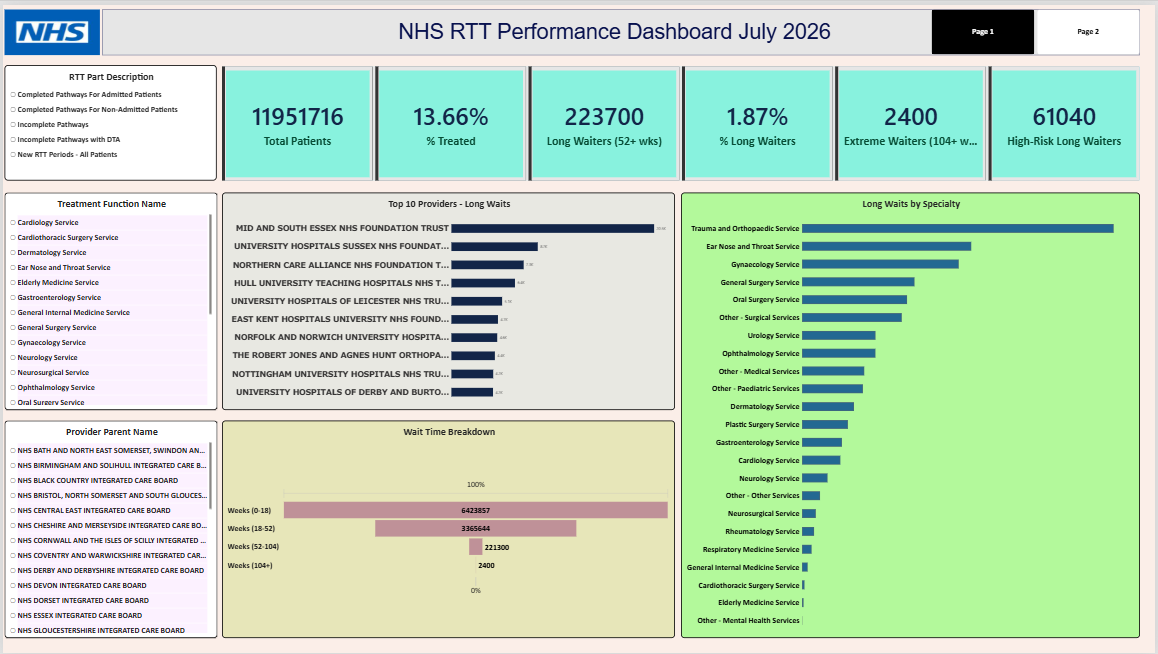

Layout of this report page (visuals, bound fields, positions):
{"tool":"powerbi","page":{"name":"Page 1","canvas":[3840,2160],"ordinal":0},"visuals":[{"type":"cardVisual","fields":{"Data":["NHS_Rtt.Total patient","NHS_Rtt.Percentage_of_Patients_Treated","NHS_Rtt.Long_Wait_volume","NHS_Rtt.Percentage_long_wait_volume","NHS_Rtt.Extreme_long_wait","NHS_Rtt.High_risk_long_wait"]},"box":[730,205,3060,380],"z":0},{"type":"shape","box":[329.3,14.3,3459.6,152.7],"z":1000},{"type":"textbox","box":[329.3,42.9,3416.6,124.1],"z":2000},{"type":"barChart","title":"Top 10 Providers - Long Waits","fields":{"Category":["NHS_Rtt.Provider Org Name"],"Y":["NHS_Rtt.Long_Wait_volume"]},"box":[730,625,1510,725],"z":3000},{"type":"funnel","title":"Wait Time Breakdown","fields":{"Y":["NHS_Rtt.Weeks (0-18)","NHS_Rtt.Weeks (18-52)","NHS_Rtt.Weeks (52-104)","NHS_Rtt.Weeks (104+)"]},"box":[730,1385,1510,725],"z":4000},{"type":"clusteredBarChart","title":"Long Waits by Specialty","fields":{"Category":["NHS_Rtt.Treatment Function Name"],"Y":["NHS_Rtt.Long_Wait_volume"]},"box":[2260,625,1530,1485],"z":5000},{"type":"listSlicer","fields":{"Values":["NHS_Rtt.RTT Part Description"]},"box":[5,200,707.5,385],"z":6000},{"type":"listSlicer","fields":{"Values":["NHS_Rtt.Treatment Function Name"]},"box":[5,625,710,725],"z":7000},{"type":"listSlicer","fields":{"Values":["NHS_Rtt.Provider Parent Name"]},"box":[5,1385,710,725],"z":8000},{"type":"image","box":[6,14,318,152],"z":10000},{"type":"pageNavigator","box":[3095,15,695,150],"z":12000}]}

Visuals, with their boxes in screenshot pixels (x1, y1, x2, y2), scaled from the page's 3840x2160 canvas onto the 1158x654 screenshot:
cardVisual - NHS_Rtt.Total patient x NHS_Rtt.Percentage_of_Patients_Treated: locate(220, 62, 1143, 177)
shape: locate(99, 4, 1143, 51)
textbox: locate(99, 13, 1130, 51)
"Top 10 Providers - Long Waits" barChart: locate(220, 189, 676, 409)
"Wait Time Breakdown" funnel: locate(220, 419, 676, 639)
"Long Waits by Specialty" clusteredBarChart: locate(682, 189, 1143, 639)
listSlicer - NHS_Rtt.RTT Part Description: locate(2, 61, 215, 177)
listSlicer - NHS_Rtt.Treatment Function Name: locate(2, 189, 216, 409)
listSlicer - NHS_Rtt.Provider Parent Name: locate(2, 419, 216, 639)
image: locate(2, 4, 98, 50)
pageNavigator: locate(933, 5, 1143, 50)
